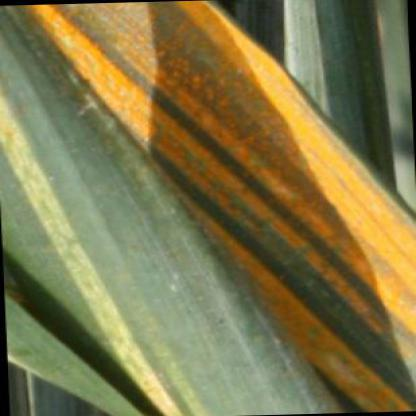Wheat-Yellow-rust: (64, 11, 220, 107), (268, 85, 299, 294), (376, 232, 412, 390), (154, 129, 223, 206), (230, 41, 257, 220), (344, 156, 364, 367), (315, 126, 331, 360), (27, 4, 58, 39), (374, 201, 408, 226), (162, 111, 213, 127), (207, 232, 254, 246), (360, 397, 412, 409), (336, 373, 370, 388), (278, 304, 300, 323), (242, 258, 260, 276), (131, 113, 147, 132), (295, 329, 308, 347), (264, 61, 274, 77)
